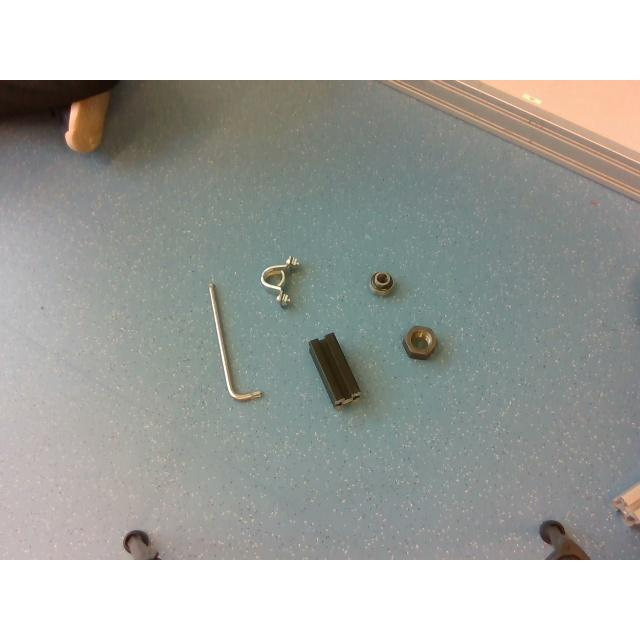AllenKey: (209, 284, 263, 401)
Bearing2: (371, 272, 394, 294)
Housing: (262, 256, 298, 308)
M30: (404, 326, 436, 358)
S40_40_B: (308, 333, 359, 405)
